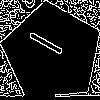I: (27, 28, 73, 63)
